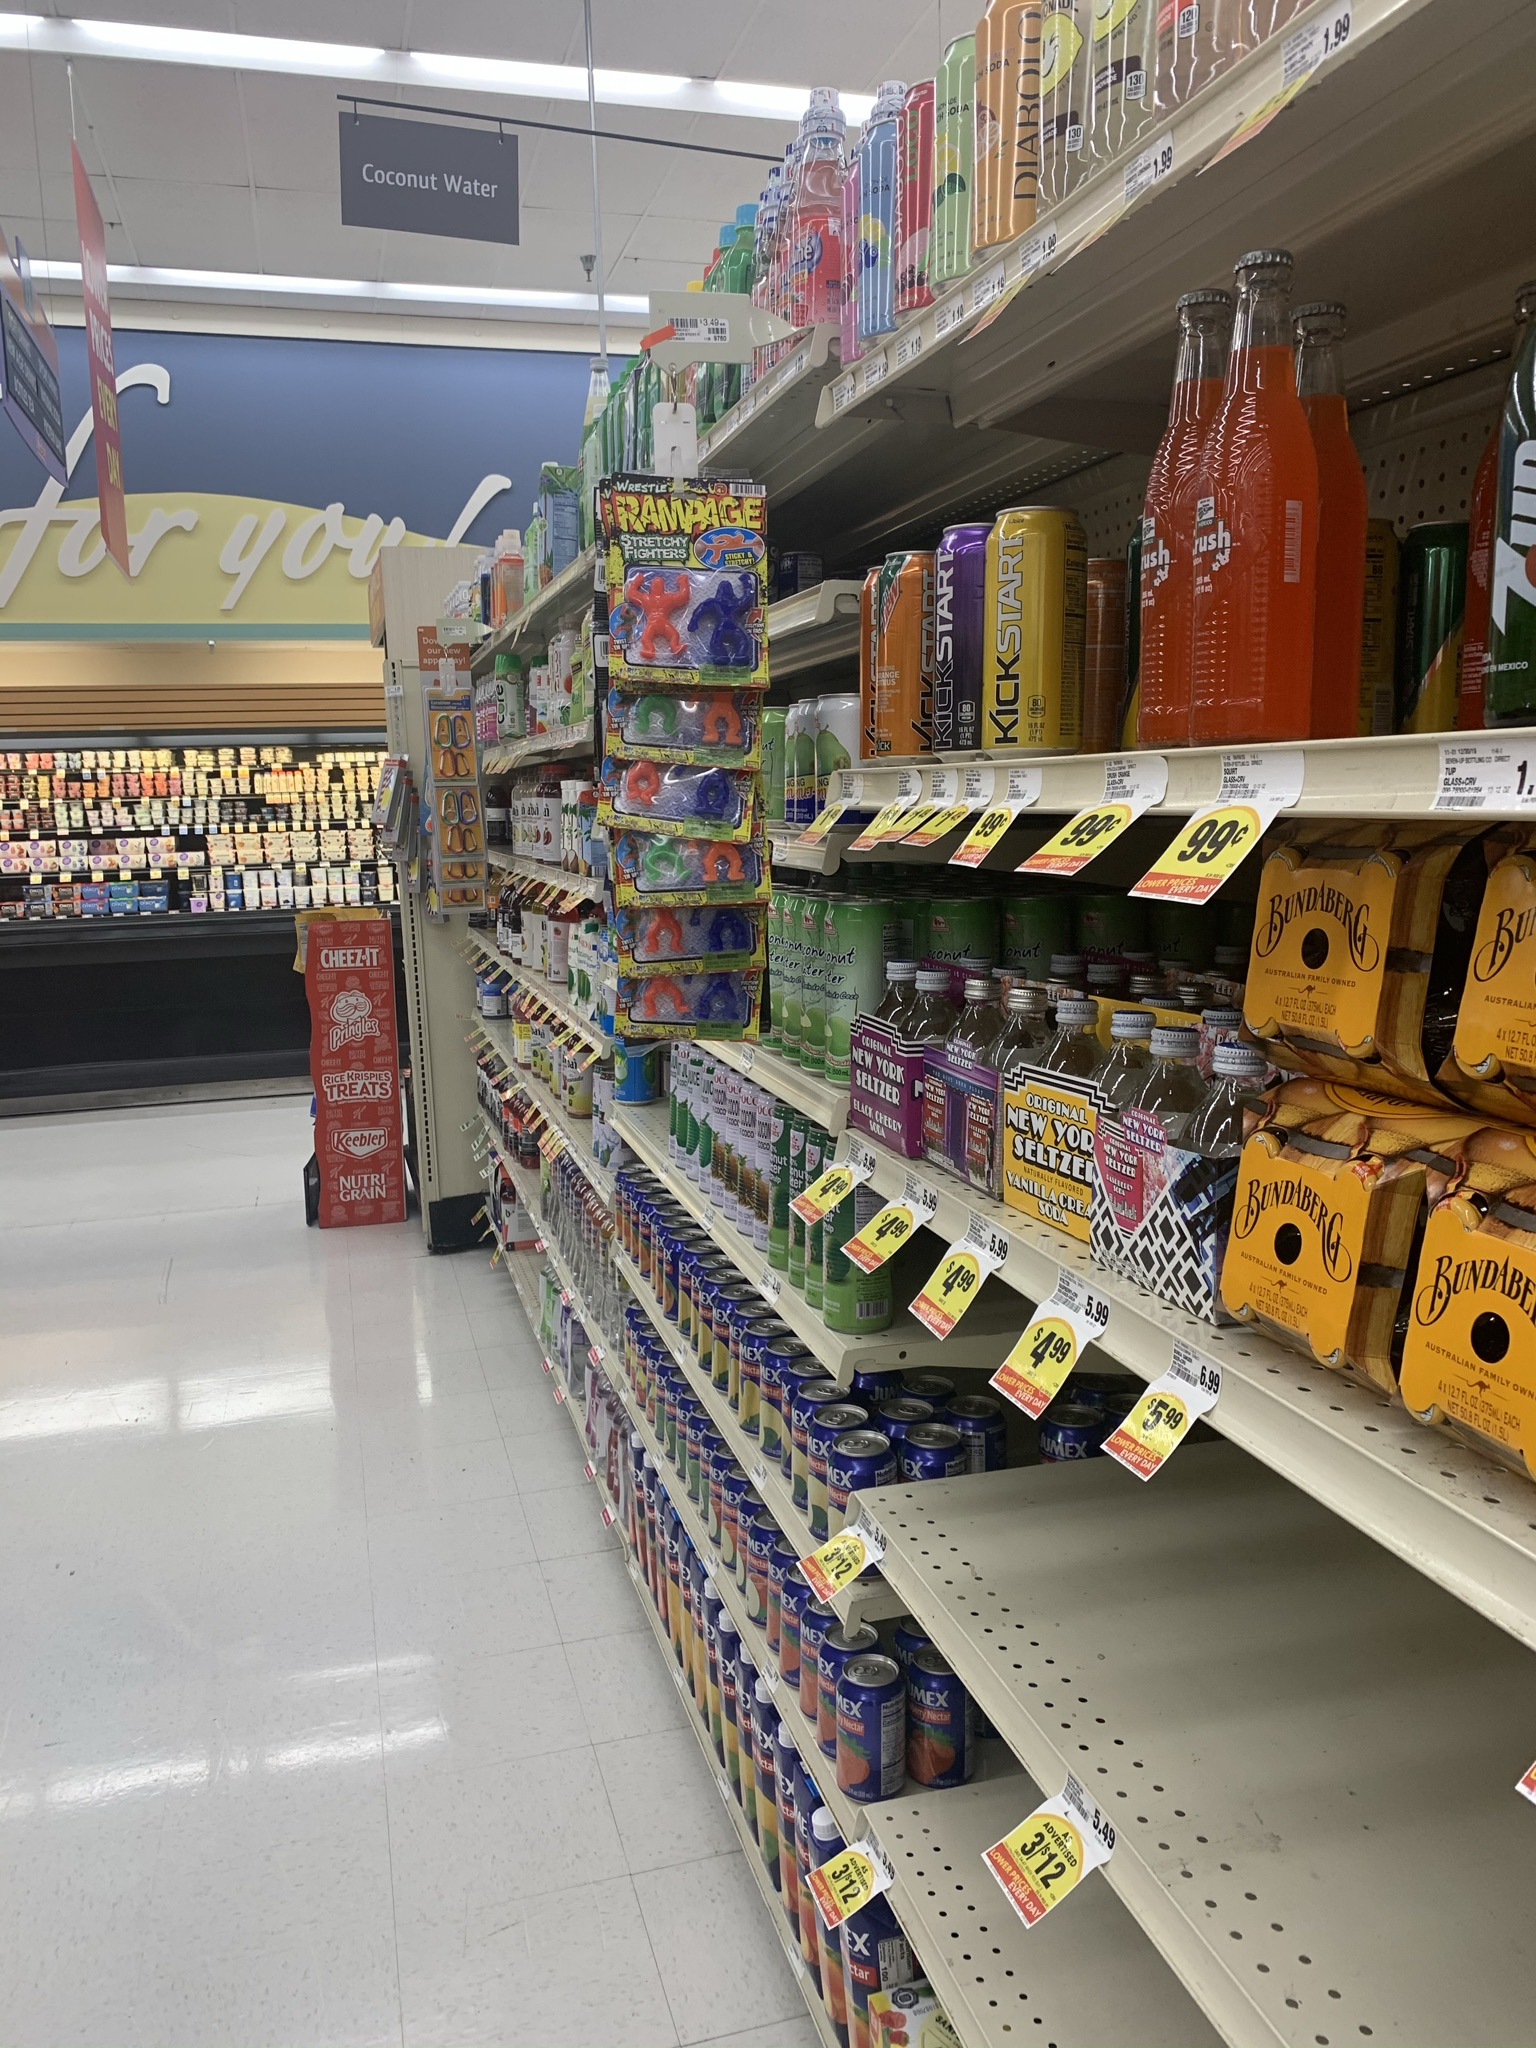bundaberg soda: (1233, 1092, 1394, 1359), (1271, 847, 1407, 1076), (1439, 1184, 1530, 1492)
crush soda: (1242, 261, 1329, 755), (1167, 302, 1238, 756)
kickstart soda: (854, 539, 1083, 747)
new york seltzer: (1029, 997, 1102, 1238), (942, 984, 1012, 1171), (854, 1005, 913, 1142)
